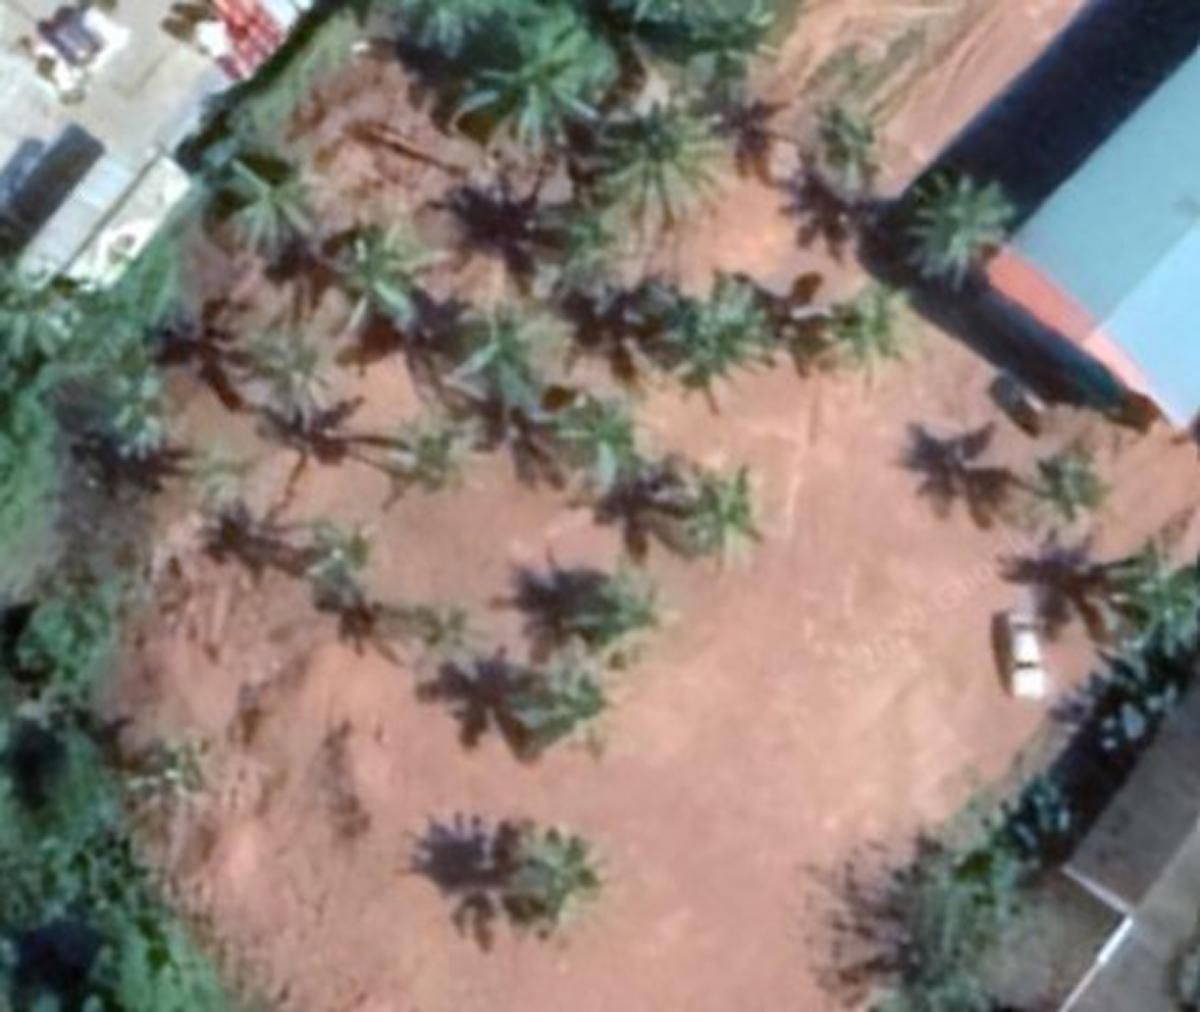coconut: (587, 101, 727, 233), (458, 22, 595, 148), (317, 219, 446, 337), (660, 264, 772, 387), (213, 146, 331, 258), (907, 174, 1020, 289), (500, 818, 604, 936), (458, 297, 556, 418), (559, 387, 657, 494), (570, 567, 671, 666), (92, 376, 193, 475), (525, 669, 621, 764), (820, 283, 918, 373), (682, 461, 770, 559), (1112, 553, 1200, 649), (258, 331, 345, 427), (688, 5, 781, 92), (820, 104, 902, 188), (410, 418, 494, 491), (300, 517, 376, 593), (1042, 435, 1110, 514), (410, 595, 483, 660)
